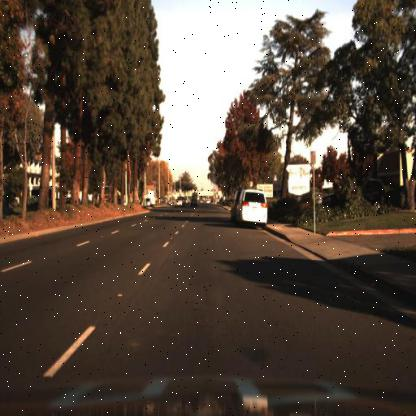car: (321, 170, 396, 216), (236, 180, 272, 236), (189, 194, 200, 212), (171, 191, 184, 206), (144, 194, 154, 212)
